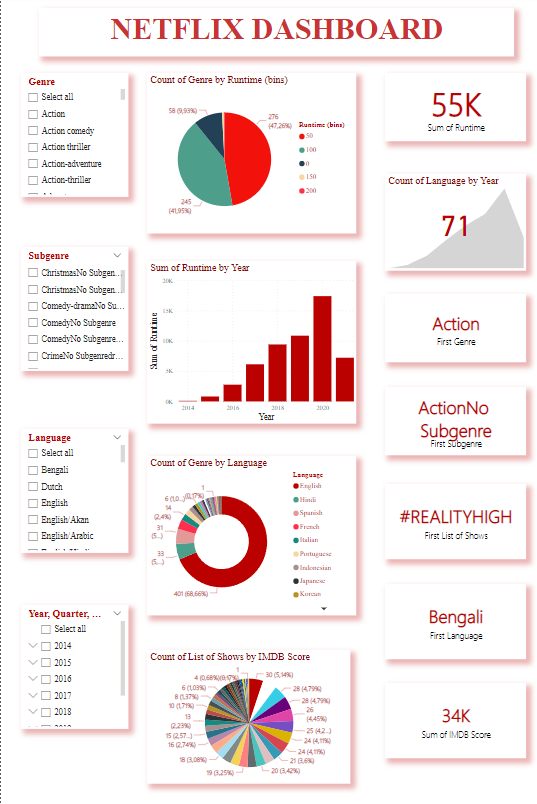

The page's visual inventory and layout, read from the dashboard file:
{"tool":"powerbi","page":{"name":"Page 1","canvas":[1000,1500],"ordinal":0},"visuals":[{"type":"slicer","fields":{"Values":["NetflixOriginals.Genre"]},"box":[37.1,135.7,200,231.4],"z":0},{"type":"card","fields":{"Values":["Sum(NetflixOriginals.Runtime)"]},"box":[715.7,135.7,262.9,127.1],"z":1000},{"type":"slicer","fields":{"Values":["NetflixOriginals.Subgenre"]},"box":[37.1,460,200,231.4],"z":2000},{"type":"slicer","fields":{"Values":["NetflixOriginals.Premiere.Variation.Date Hierarchy.Year","NetflixOriginals.Premiere.Variation.Date Hierarchy.Quarter","NetflixOriginals.Premiere.Variation.Date Hierarchy.Month"]},"box":[37.1,1128.6,200,231.4],"z":3000},{"type":"slicer","fields":{"Values":["NetflixOriginals.Language"]},"box":[37.1,800,200,231.4],"z":4000},{"type":"pieChart","fields":{"Category":["NetflixOriginals.Runtime (bins)"],"Y":["CountNonNull(NetflixOriginals.Genre)"]},"box":[272.9,135.7,390,298.6],"z":5000},{"type":"clusteredColumnChart","fields":{"Category":["NetflixOriginals.Premiere.Variation.Date Hierarchy.Year"],"Y":["Sum(NetflixOriginals.Runtime)"]},"box":[272.9,487.1,390,302.9],"z":6000},{"type":"donutChart","fields":{"Category":["NetflixOriginals.Language"],"Y":["CountNonNull(NetflixOriginals.Genre)"]},"box":[272.9,850,390,297.1],"z":7000},{"type":"pieChart","fields":{"Category":["NetflixOriginals.IMDB Score"],"Y":["CountNonNull(NetflixOriginals.List of Shows)"]},"box":[272.9,1212.9,378.6,248.6],"z":8000},{"type":"kpi","fields":{"TrendLine":["NetflixOriginals.Premiere.Variation.Date Hierarchy.Year"],"Indicator":["CountNonNull(NetflixOriginals.Language)"]},"box":[715.7,324.3,262.9,180],"z":9000},{"type":"card","fields":{"Values":["Min(NetflixOriginals.Genre)"]},"box":[715.7,548.6,262.9,127.1],"z":10000},{"type":"card","fields":{"Values":["Min(NetflixOriginals.Subgenre)"]},"box":[715.7,722.9,262.9,127.1],"z":11000},{"type":"card","fields":{"Values":["Min(NetflixOriginals.List of Shows)"]},"box":[715.7,902.9,262.9,140],"z":12000},{"type":"card","fields":{"Values":["Min(NetflixOriginals.Language)"]},"box":[715.7,1090,262.9,140],"z":13000},{"type":"textbox","box":[71.4,14.3,885.7,90],"z":14000},{"type":"card","fields":{"Values":["Sum(NetflixOriginals.IMDB Score)"]},"box":[715.7,1274.3,262.9,140],"z":15000}]}

Visuals, with their boxes in screenshot pixels (x1, y1, x2, y2), scaled from the page's 1000x1500 canvas onto the 537x804 screenshot:
slicer - NetflixOriginals.Genre: [20,73,127,197]
card - Sum(NetflixOriginals.Runtime): [384,73,526,141]
slicer - NetflixOriginals.Subgenre: [20,247,127,371]
slicer - NetflixOriginals.Premiere.Variation.Date Hierarchy.Year x NetflixOriginals.Premiere.Variation.Date Hierarchy.Quarter: [20,605,127,729]
slicer - NetflixOriginals.Language: [20,429,127,553]
pieChart - NetflixOriginals.Runtime (bins) x CountNonNull(NetflixOriginals.Genre): [147,73,356,233]
clusteredColumnChart - NetflixOriginals.Premiere.Variation.Date Hierarchy.Year x Sum(NetflixOriginals.Runtime): [147,261,356,423]
donutChart - NetflixOriginals.Language x CountNonNull(NetflixOriginals.Genre): [147,456,356,615]
pieChart - NetflixOriginals.IMDB Score x CountNonNull(NetflixOriginals.List of Shows): [147,650,350,783]
kpi - NetflixOriginals.Premiere.Variation.Date Hierarchy.Year x CountNonNull(NetflixOriginals.Language): [384,174,526,270]
card - Min(NetflixOriginals.Genre): [384,294,526,362]
card - Min(NetflixOriginals.Subgenre): [384,387,526,456]
card - Min(NetflixOriginals.List of Shows): [384,484,526,559]
card - Min(NetflixOriginals.Language): [384,584,526,659]
textbox: [38,8,514,56]
card - Sum(NetflixOriginals.IMDB Score): [384,683,526,758]
